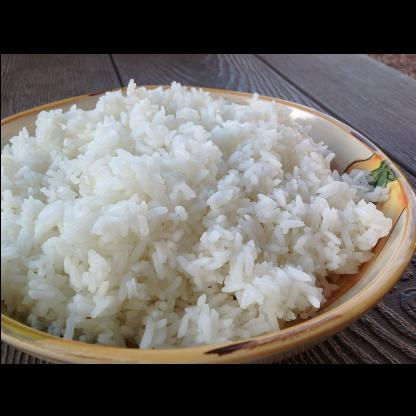banana: (1, 76, 391, 348)
